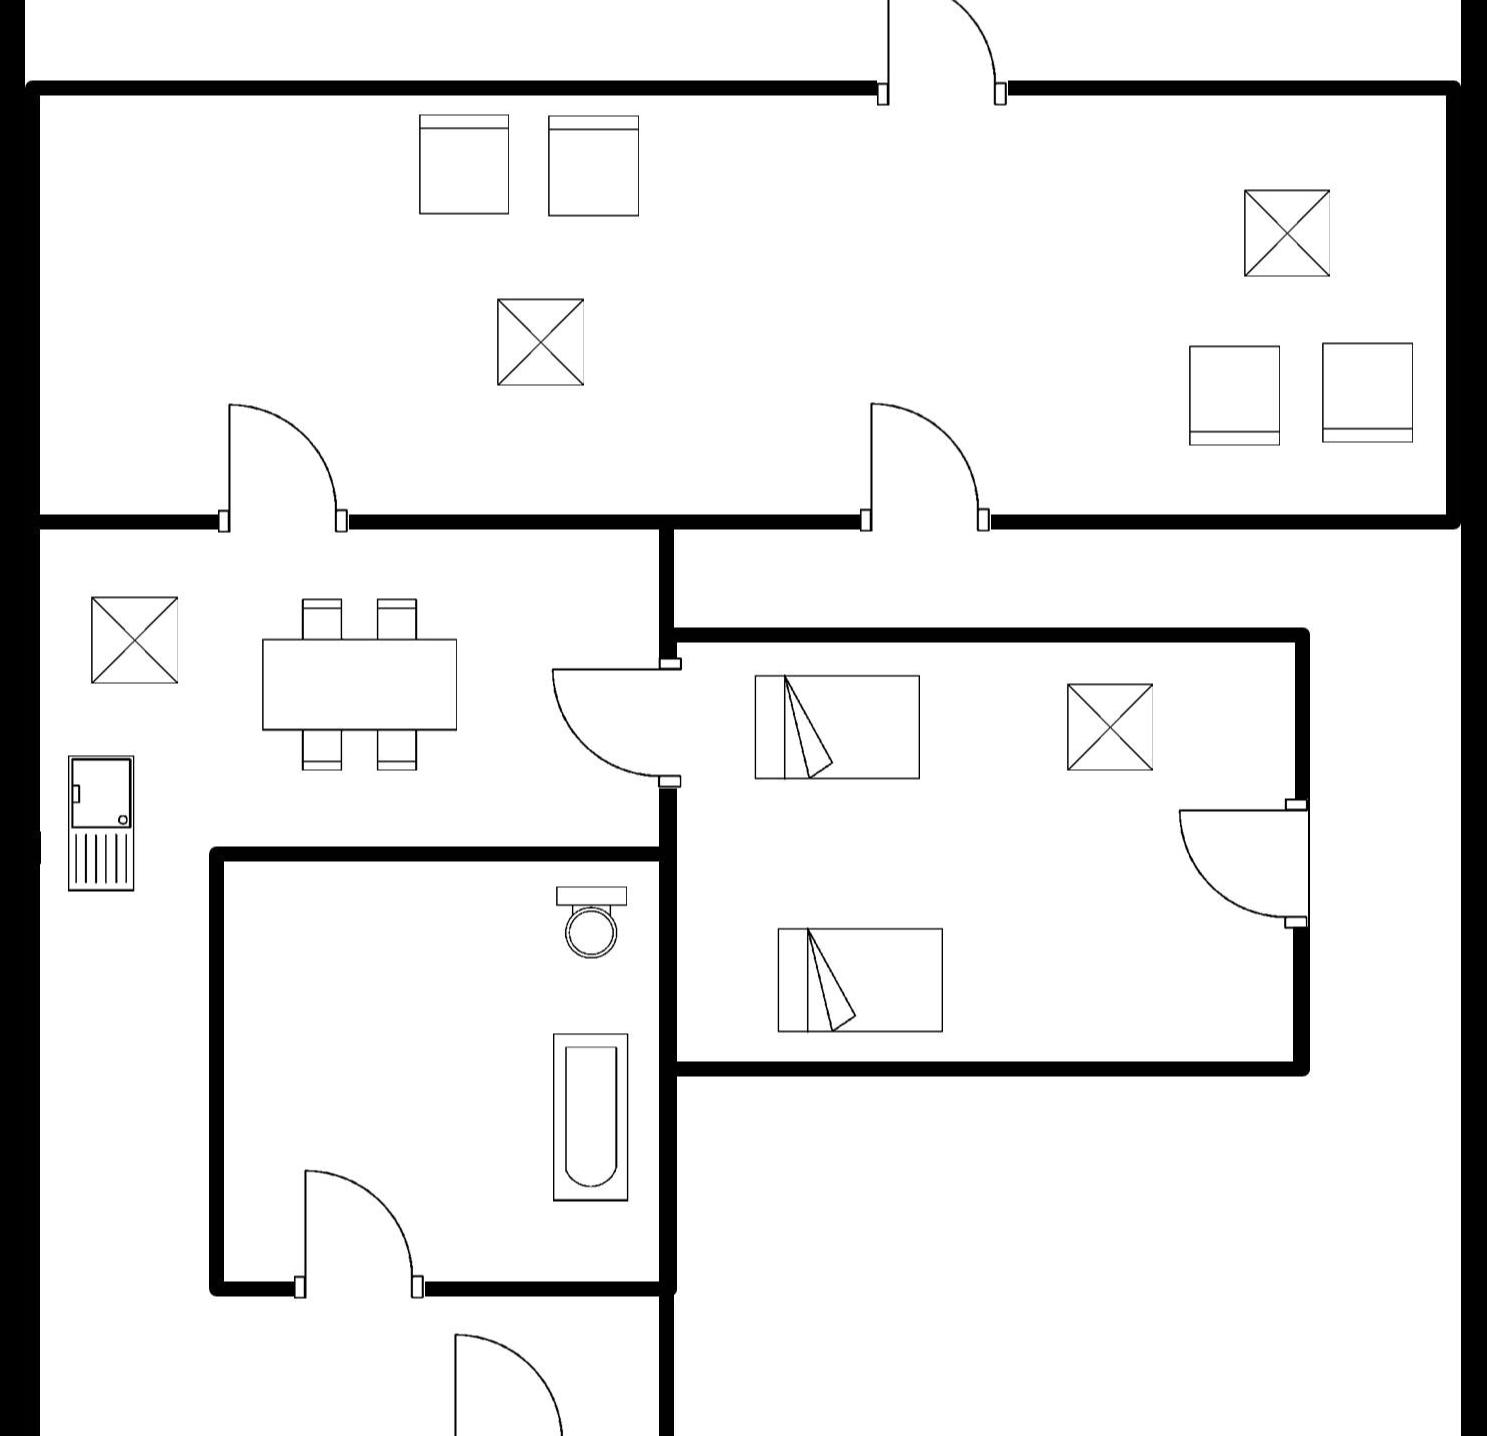bed: (763, 916, 956, 1047), (741, 666, 933, 791)
dining_table: (251, 588, 471, 783)
sink: (57, 745, 150, 901)
toilet: (540, 876, 644, 975)
tub: (539, 1025, 643, 1212)
